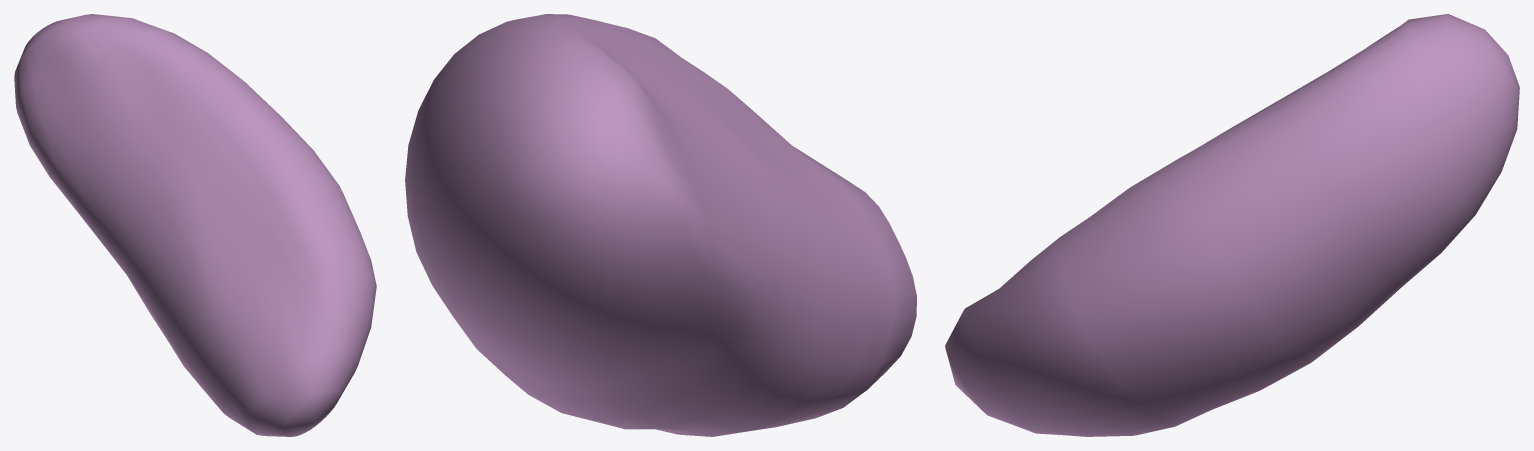
The picture shows the model from 3 angles, left to right: view 1: azimuth 30°, elevation 25°; view 2: azimuth 150°, elevation 25°; view 3: azimuth 270°, elevation 25°; orthographic projection. The views are drawn at different scales.
Parts seen in each view (by area): view 1: 左侧橄榄; view 2: 左侧橄榄; view 3: 左侧橄榄.
Boxes of the visible parts, box(x1,y1,x2,y2) form: 左侧橄榄: box(14, 14, 376, 436); 左侧橄榄: box(405, 14, 916, 436); 左侧橄榄: box(945, 14, 1519, 436).
Bounding box in the file's own units: 0.0114 × 0.0152 × 0.0205.
